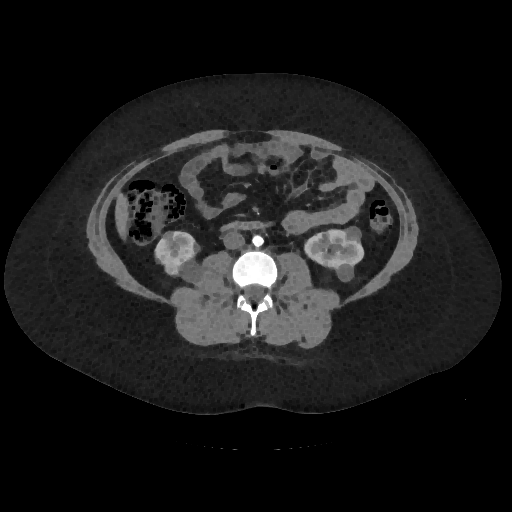Lesion: (161, 257, 180, 277)
